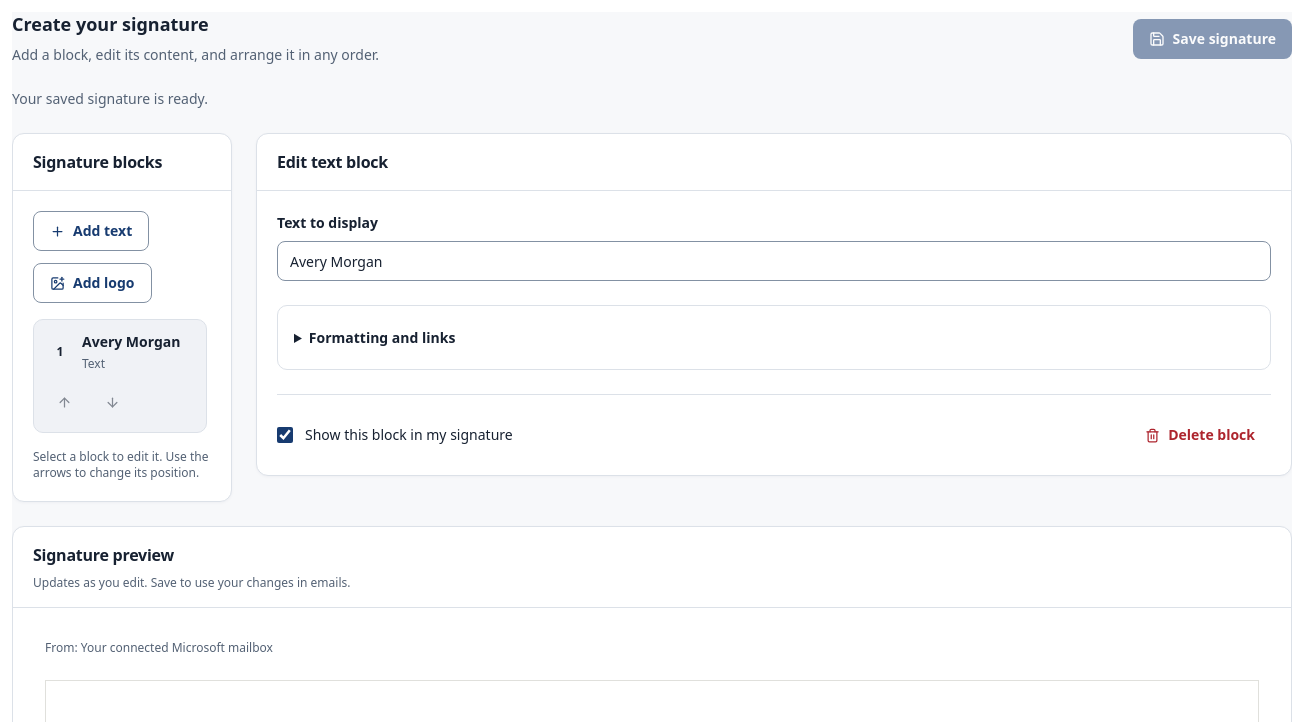
Scenario: focused signature block editor › saves edited blocks explicitly and keeps failed edits available for retry
Replace the text in the field labelled "Text to display" with "Updated name" at point(774, 261), box [277,241,1271,281]
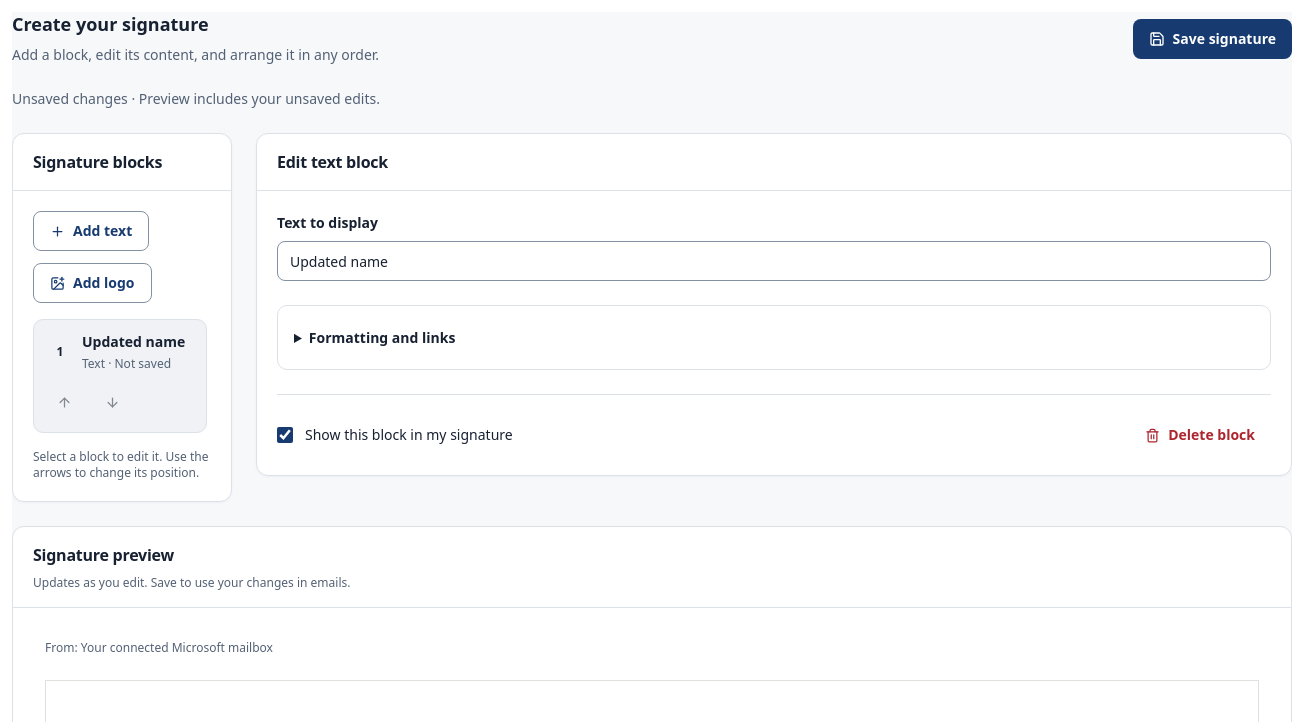
Click the button "Save signature" at point(1212, 39), box [1133,19,1292,59]
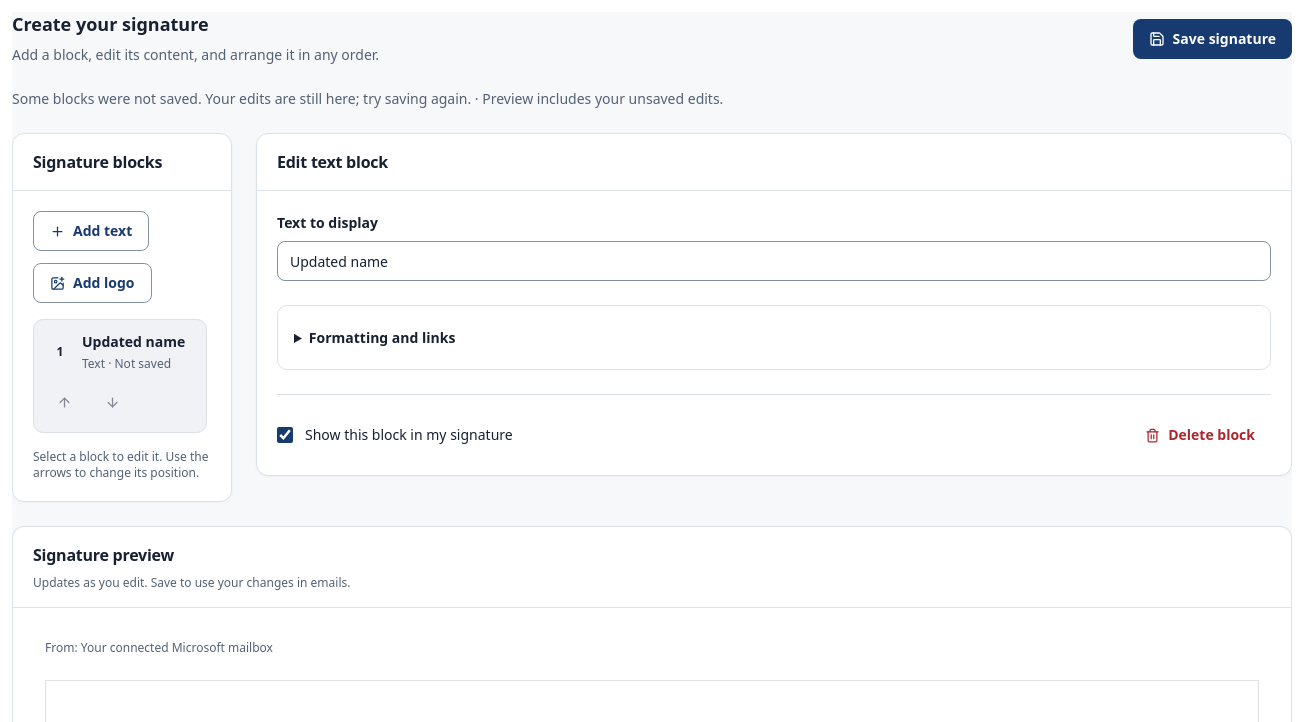
Expected: the message shows "Some blocks were not saved", [12,89,471,108]
Click the button "Save signature" at point(1212, 39), box [1133,19,1292,59]
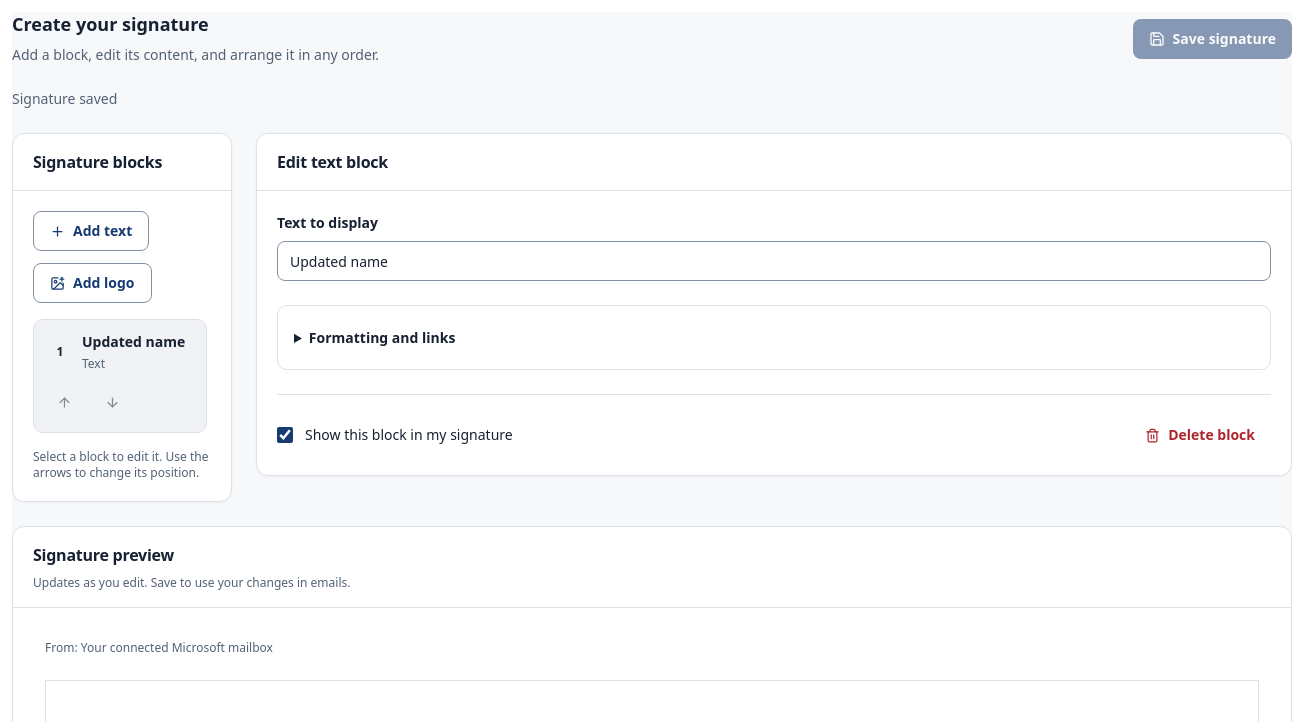
Expected: the message reads "Signature saved", [12,89,117,108]
Expected: the button "Save signature" is disabled, [1133,19,1292,59]
